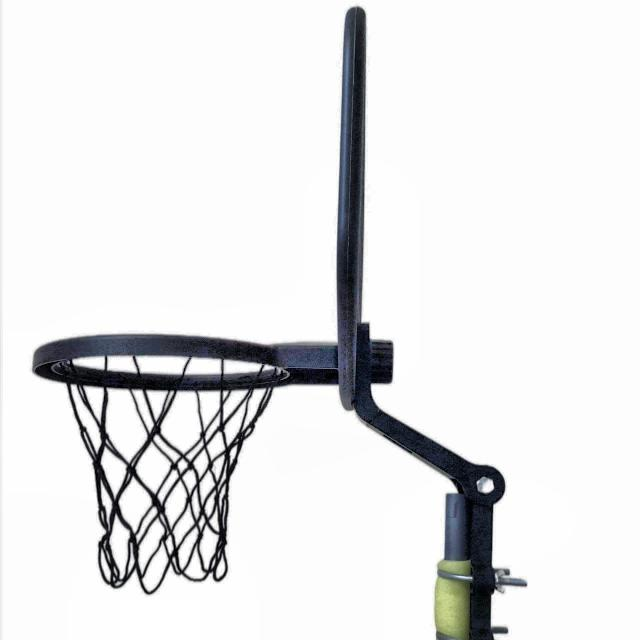rim: (32, 332, 288, 593)
